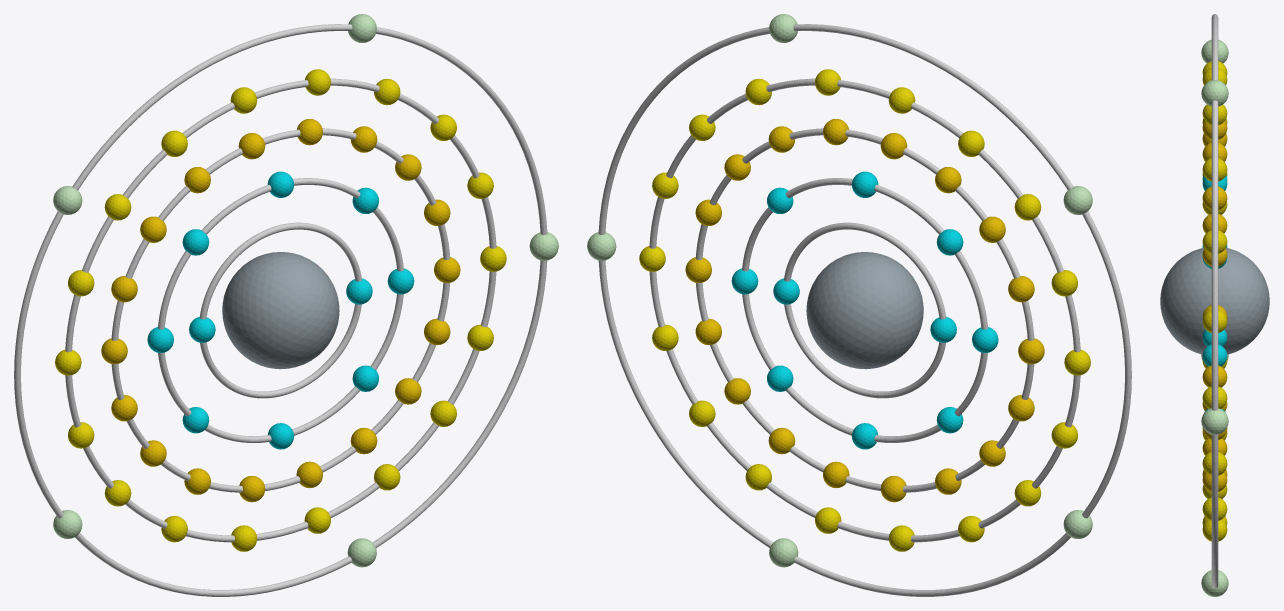
The picture shows the model from 3 angles, left to right: view 1: azimuth 30°, elevation 25°; view 2: azimuth 150°, elevation 25°; view 3: azimuth 270°, elevation 25°; orthographic projection. The views are drawn at different scales.
Visible parts, largest first — view 1: Camada_5, Nucleo_Sb, Camada_4, Camada_3, Camada_2, Camada_1; view 2: Camada_5, Nucleo_Sb, Camada_4, Camada_3, Camada_2, Camada_1; view 3: Nucleo_Sb, Camada_5, e5_1, e5_2, e5_5, e5_3, e3_4, e4_2, e4_18, e4_4, e4_17, e4_3 (+14 smaller).
Boxes of the visible parts, x1=… form: Camada_5: x1=14, y1=24, x2=547, y2=596; Nucleo_Sb: x1=222, y1=252, x2=339, y2=369; Camada_4: x1=65, y1=78, x2=496, y2=542; Camada_3: x1=111, y1=128, x2=450, y2=492; Camada_2: x1=158, y1=178, x2=403, y2=442; Camada_1: x1=199, y1=222, x2=361, y2=398; Camada_5: x1=598, y1=24, x2=1131, y2=596; Nucleo_Sb: x1=806, y1=252, x2=923, y2=369; Camada_4: x1=649, y1=78, x2=1080, y2=542; Camada_3: x1=695, y1=128, x2=1034, y2=492; Camada_2: x1=742, y1=178, x2=987, y2=442; Camada_1: x1=784, y1=222, x2=946, y2=398; Nucleo_Sb: x1=1160, y1=248, x2=1269, y2=354; Camada_5: x1=1211, y1=14, x2=1218, y2=588; e5_1: x1=1201, y1=408, x2=1228, y2=434; e5_2: x1=1201, y1=80, x2=1228, y2=106; e5_5: x1=1201, y1=570, x2=1228, y2=596; e5_3: x1=1201, y1=39, x2=1228, y2=63; e3_4: x1=1202, y1=186, x2=1227, y2=210; e4_2: x1=1202, y1=309, x2=1227, y2=332; e4_18: x1=1202, y1=451, x2=1227, y2=475; e4_4: x1=1202, y1=158, x2=1227, y2=181; e4_17: x1=1202, y1=497, x2=1227, y2=520; e4_3: x1=1202, y1=230, x2=1227, y2=253.
Size of the model in its own units: 2.35 by 2.31 by 0.44.
